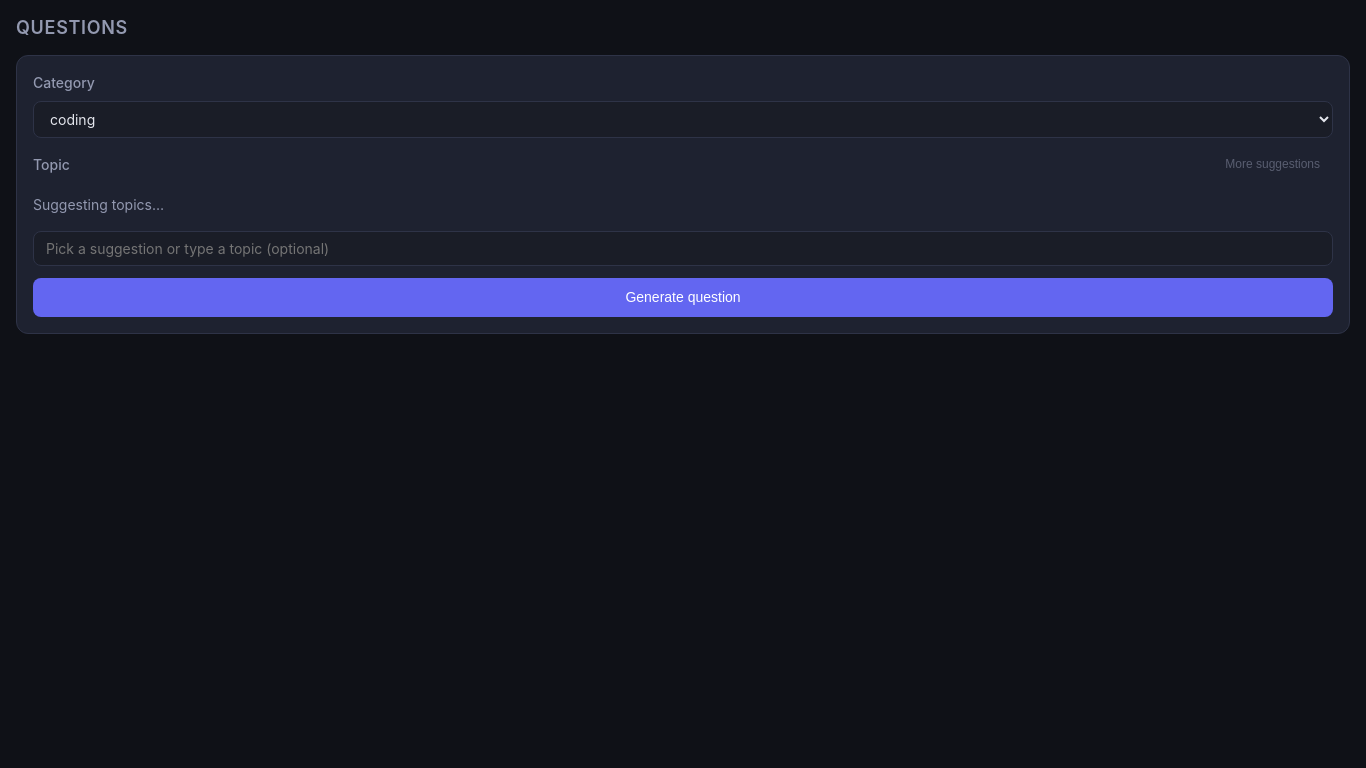
it: generating questions during the interview › keeps the draft when using it fails
Click the button "Generate question": (683, 298) top-left (33, 278), bottom-right (1333, 317)
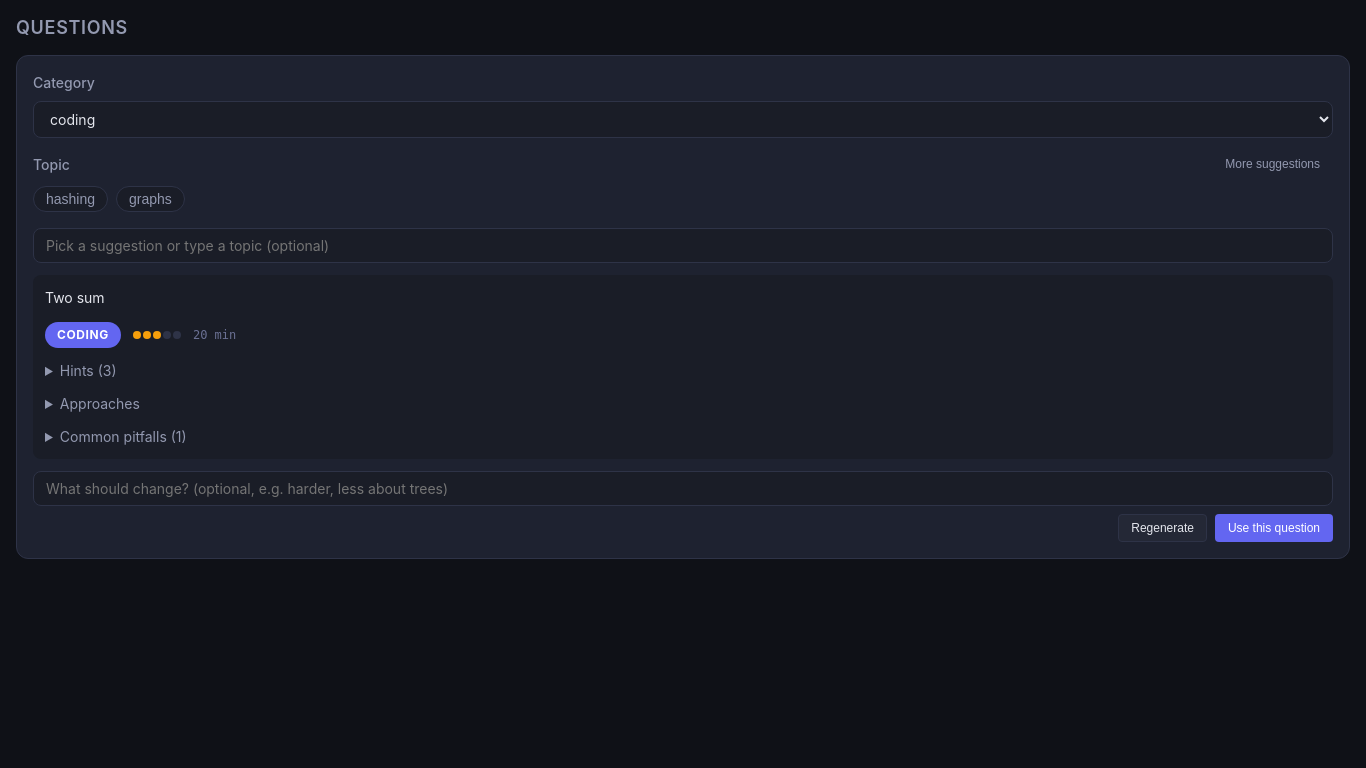
Expected: the text "Two sum" is shown, top-left (45, 289), bottom-right (105, 306)
Click the button "Use this question": (1274, 528) top-left (1215, 514), bottom-right (1333, 542)
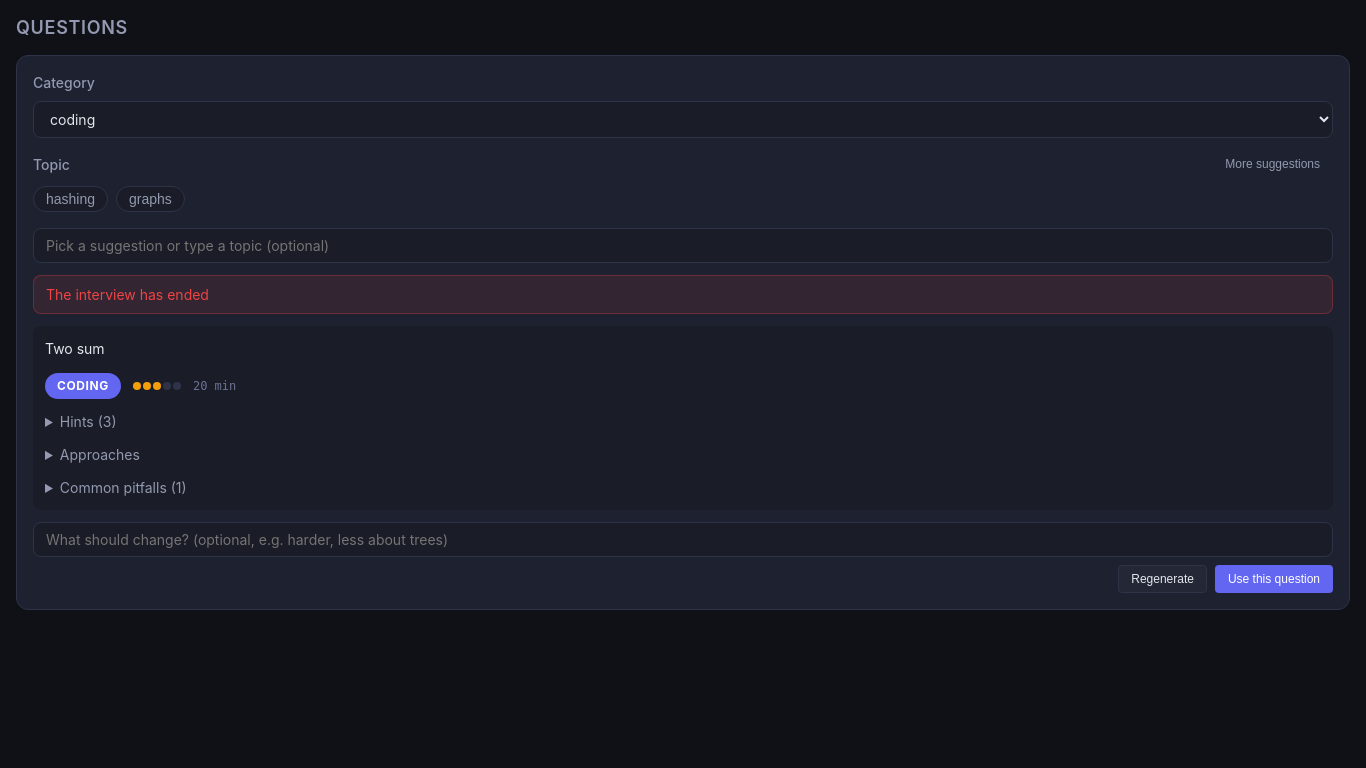
Expected: the text "Two sum" is shown, top-left (45, 340), bottom-right (105, 357)
Expected: the message reads "The interview has ended", top-left (46, 286), bottom-right (209, 303)
